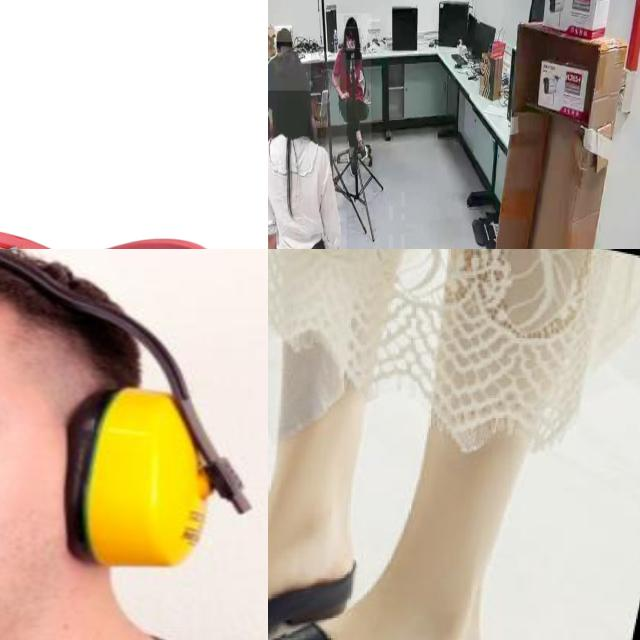Ear-protection: (0, 249, 213, 640)
Sandals: (268, 530, 525, 640)
face_mask: (346, 29, 360, 60)
hand_noglove: (340, 90, 350, 100), (346, 41, 355, 51)
head_nohelmet: (268, 49, 311, 91), (274, 26, 292, 42), (344, 15, 358, 28)
person: (268, 52, 346, 249), (326, 13, 372, 174)
shoes: (346, 148, 360, 181), (356, 137, 369, 163)
